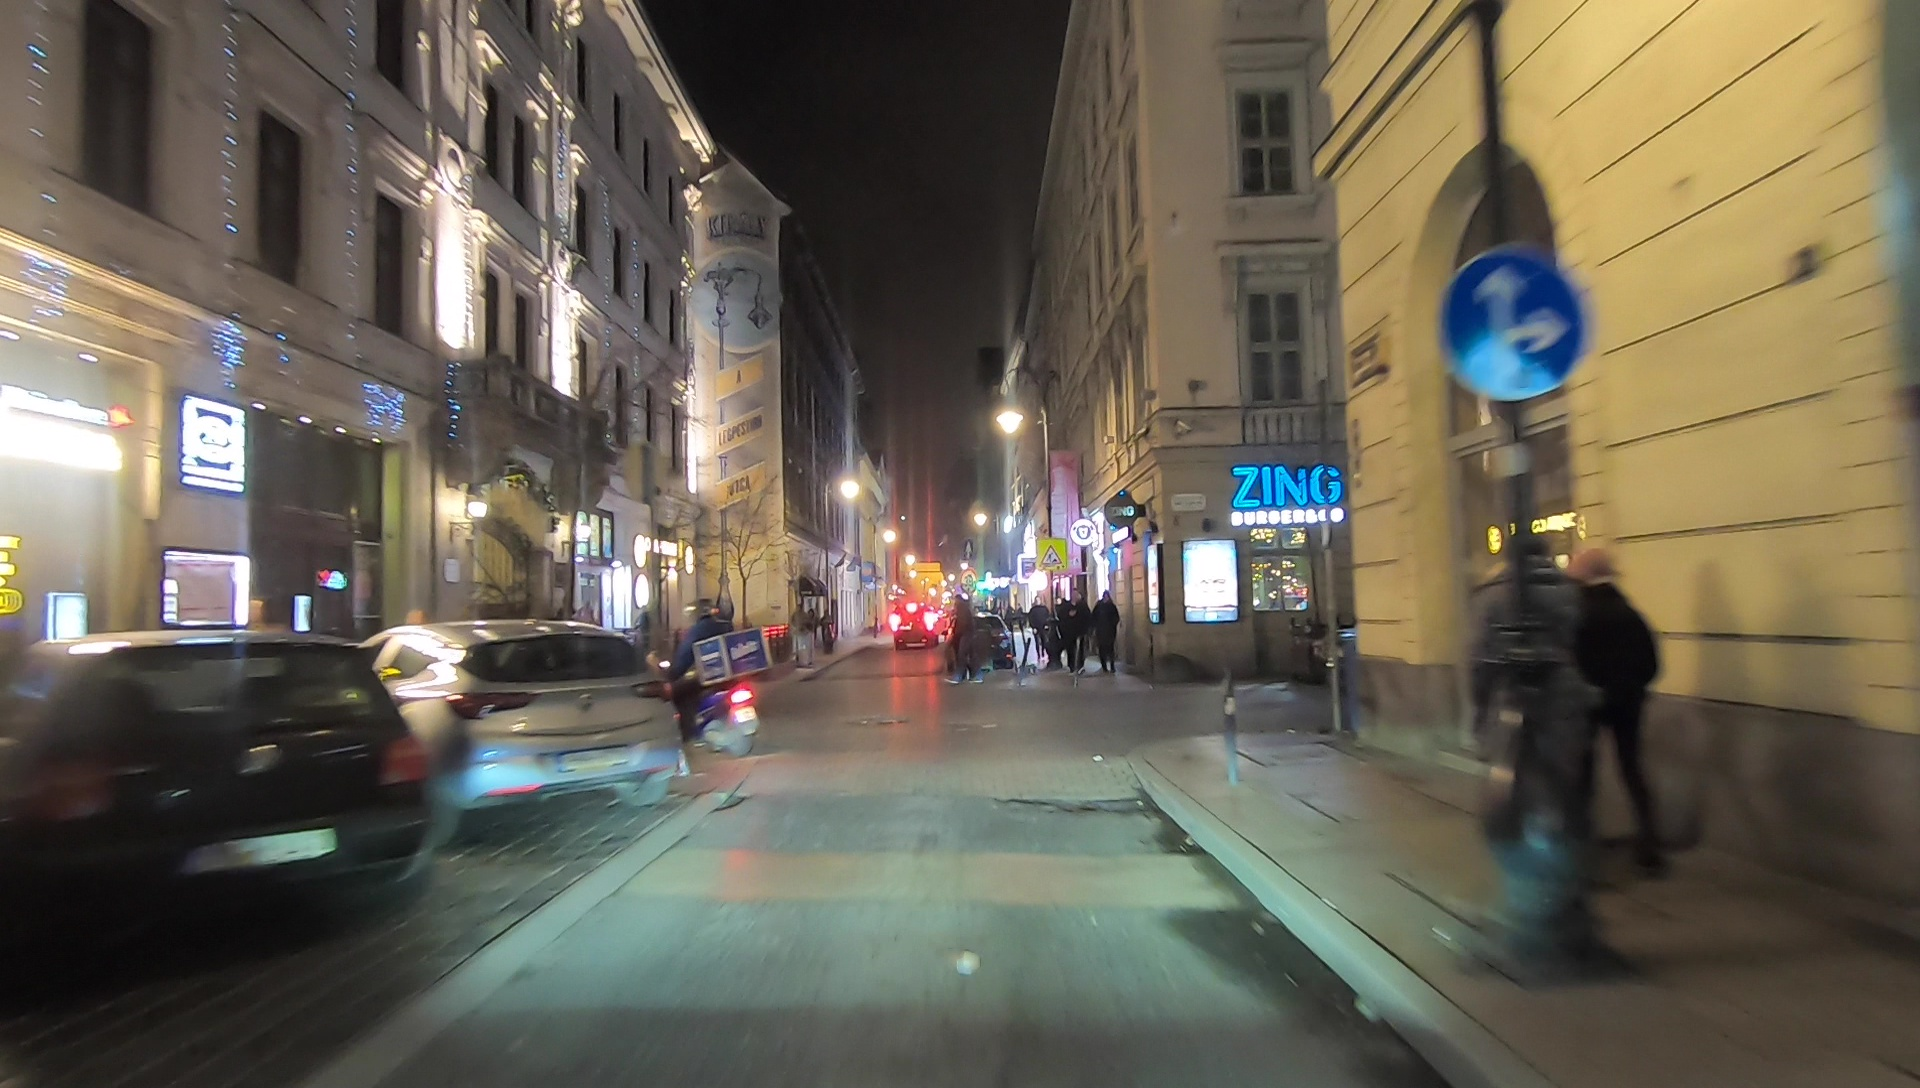person: (1449, 510, 1573, 871), (1573, 528, 1669, 873), (944, 597, 984, 686), (1094, 591, 1122, 669), (1064, 587, 1088, 662), (1028, 598, 1049, 654)
